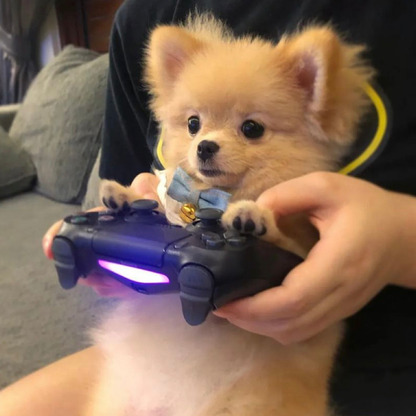Pomeranian: (125, 20, 357, 225)
